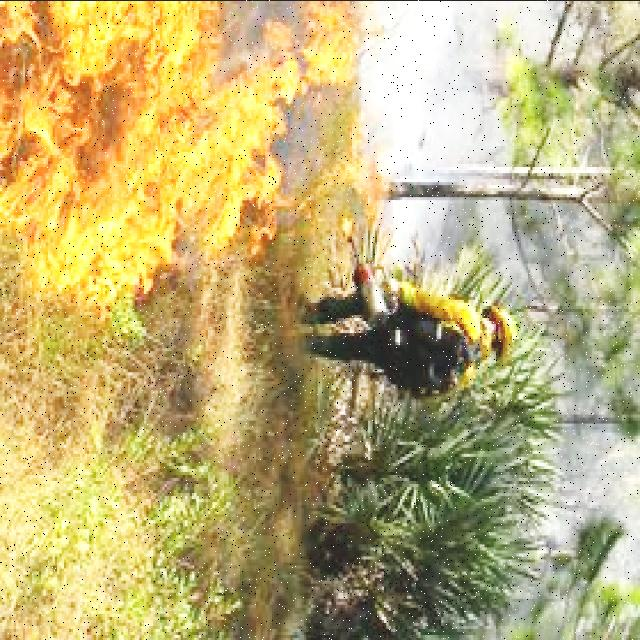api: (7, 1, 368, 301)
asap: (366, 2, 528, 184)
